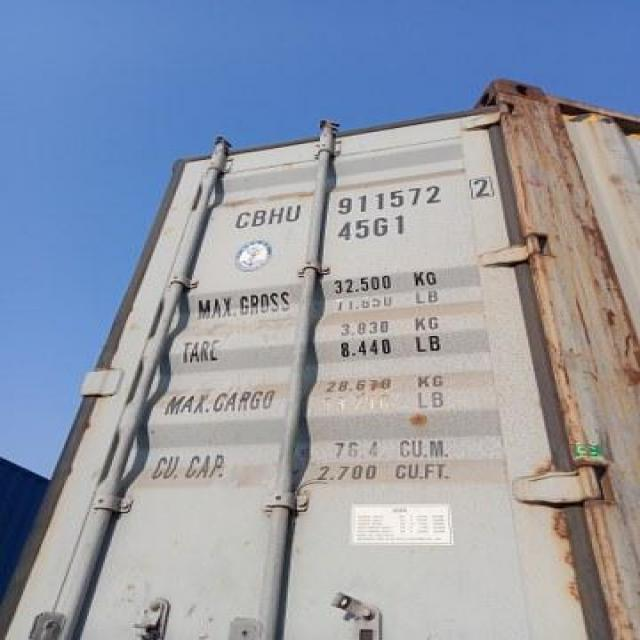ISO: (338, 217, 403, 241)
container_number: (224, 166, 490, 236)
